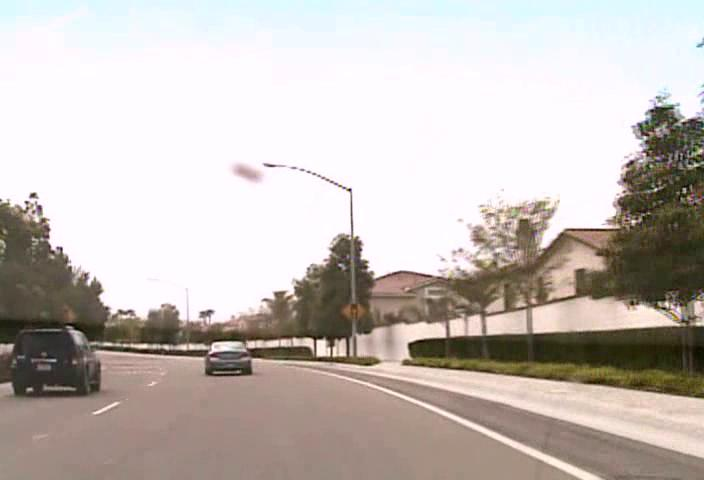signalAhead: (341, 299, 366, 323)
